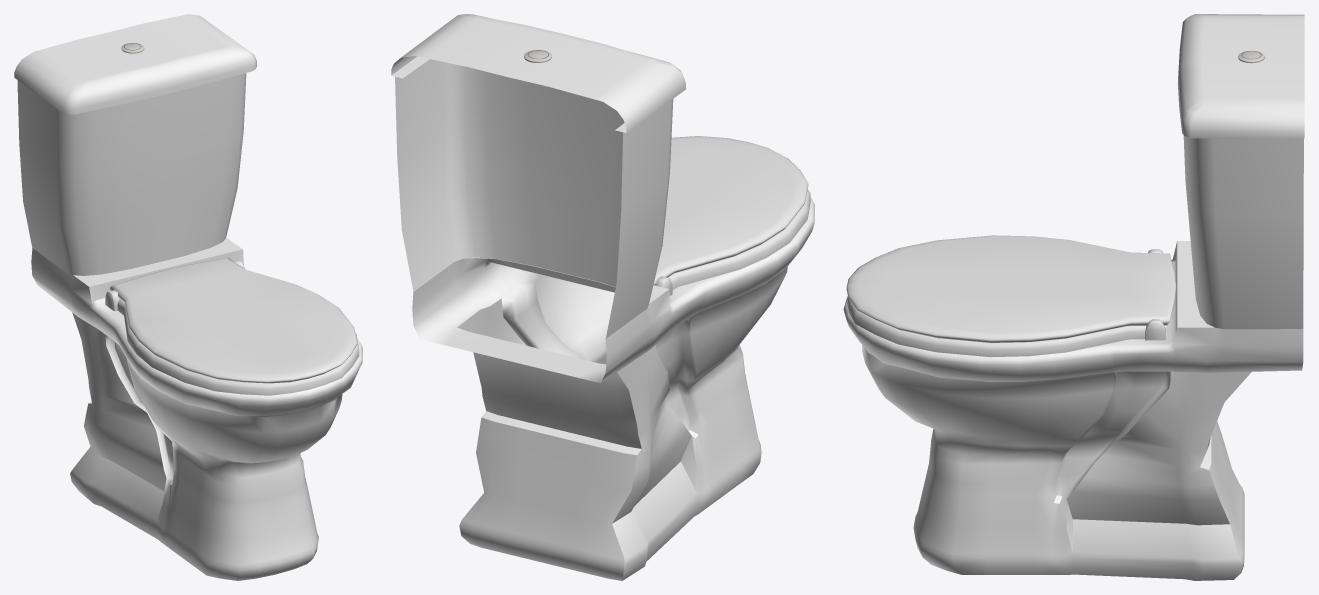
The model's file is Toilet01.FBX.
3 views of the same model, side by side, from view 1: azimuth 30°, elevation 25°; view 2: azimuth 150°, elevation 25°; view 3: azimuth 270°, elevation 25° (orthographic). The views are drawn at different scales.
Visible parts, largest first — view 1: Toilet01; view 2: Toilet01; view 3: Toilet01.
Boxes of the visible parts, <box> form: Toilet01: <box>14,14,362,580</box>; Toilet01: <box>391,14,814,580</box>; Toilet01: <box>843,14,1304,580</box>.
Size of the model in its own units: 53.59 by 111 by 94.68.
